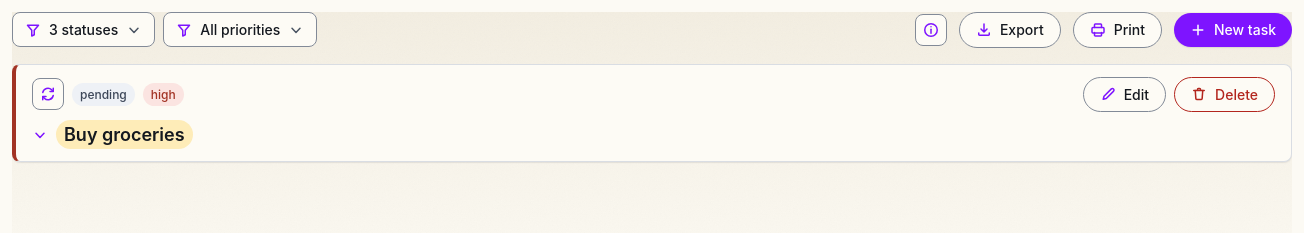
TaskList › ticking cancelled adds it to the filter without removing the others
Click the button with aria-label "Filter by status" at (84,30), box [12,12,155,47]
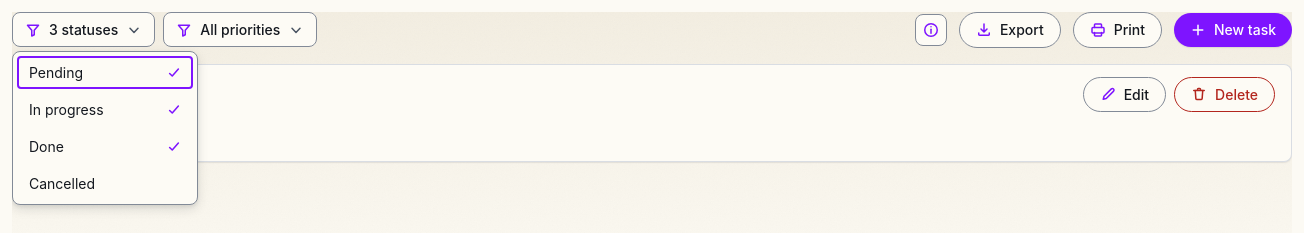
Click the menu item "Cancelled" at (105,184), box [17,167,193,200]
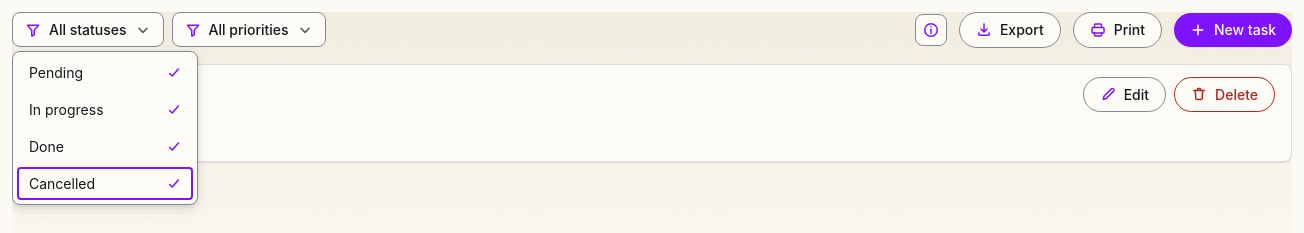
Expected: the button with aria-label "Filter by status" reads "All statuses", [12,12,164,47]
